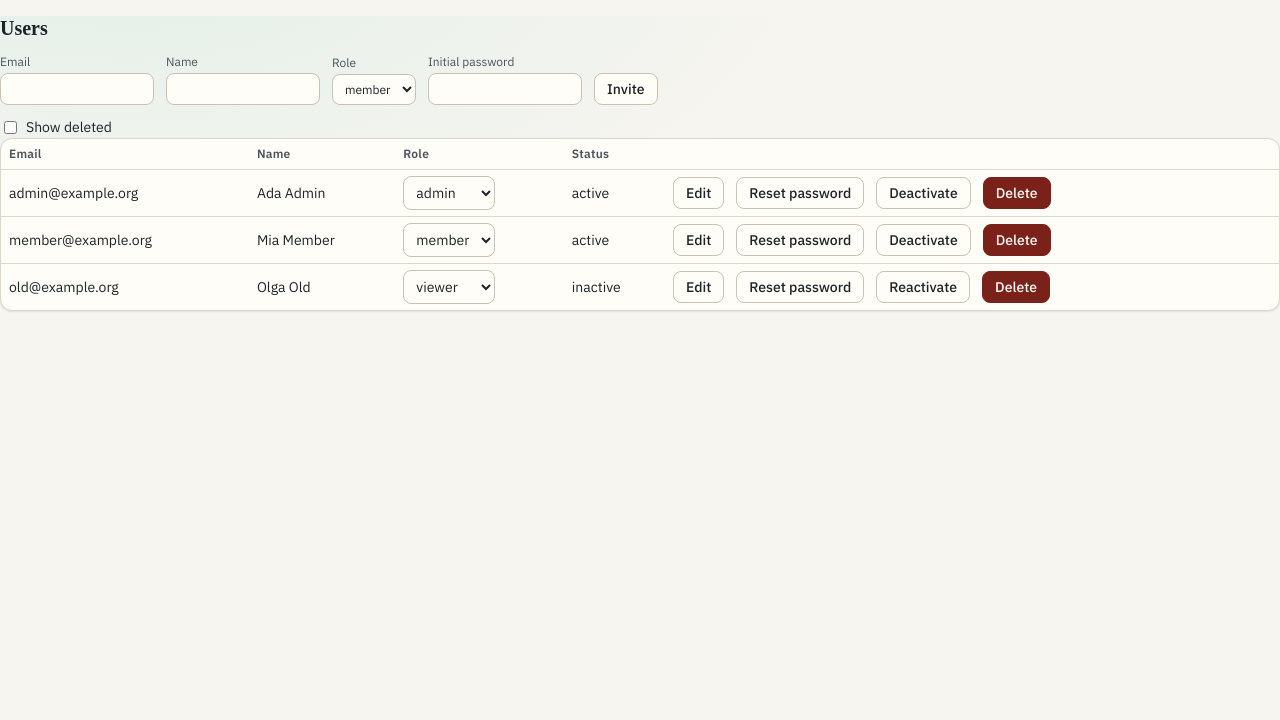
Test: UsersPage › edits name and email in a dialog and sends only what changed
This screenshot has width=1280, height=720.
Click the button with aria-label "Edit member@example.org": coordinates (699, 240) [673, 224, 724, 256]
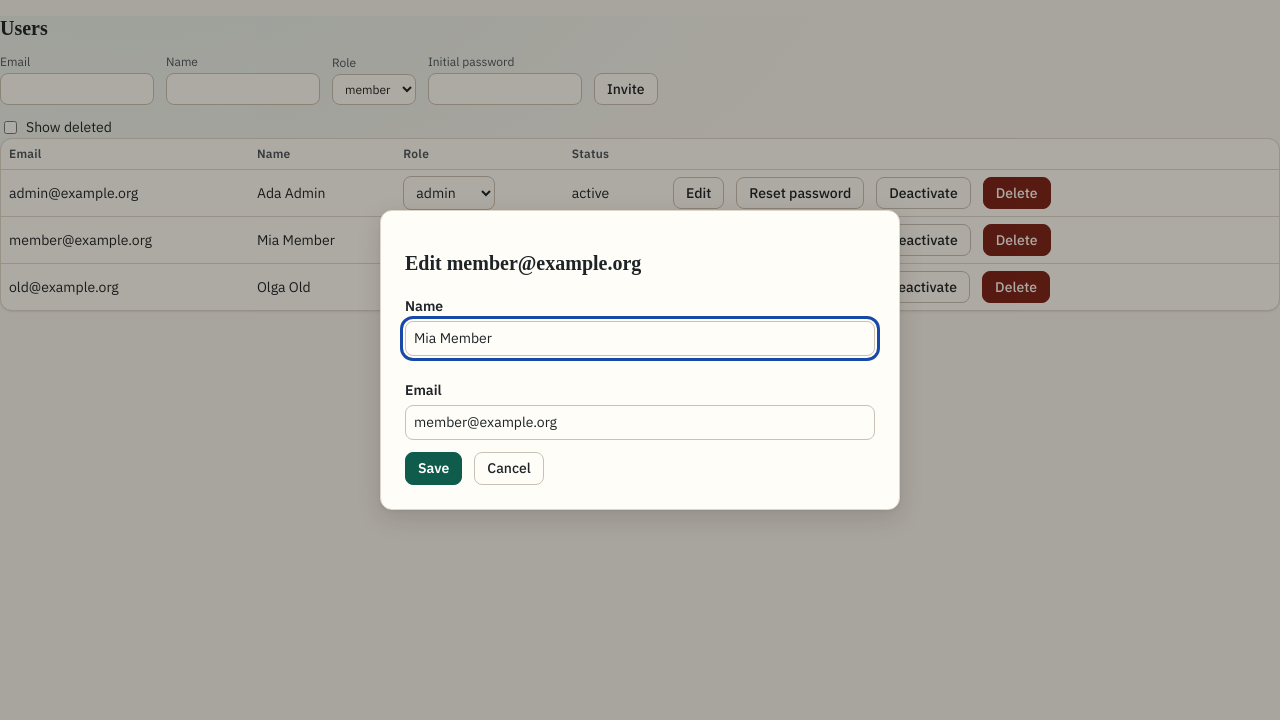
Replace the text in the field labelled "Email" with "nope": coordinates (640, 423) [405, 405, 875, 440]
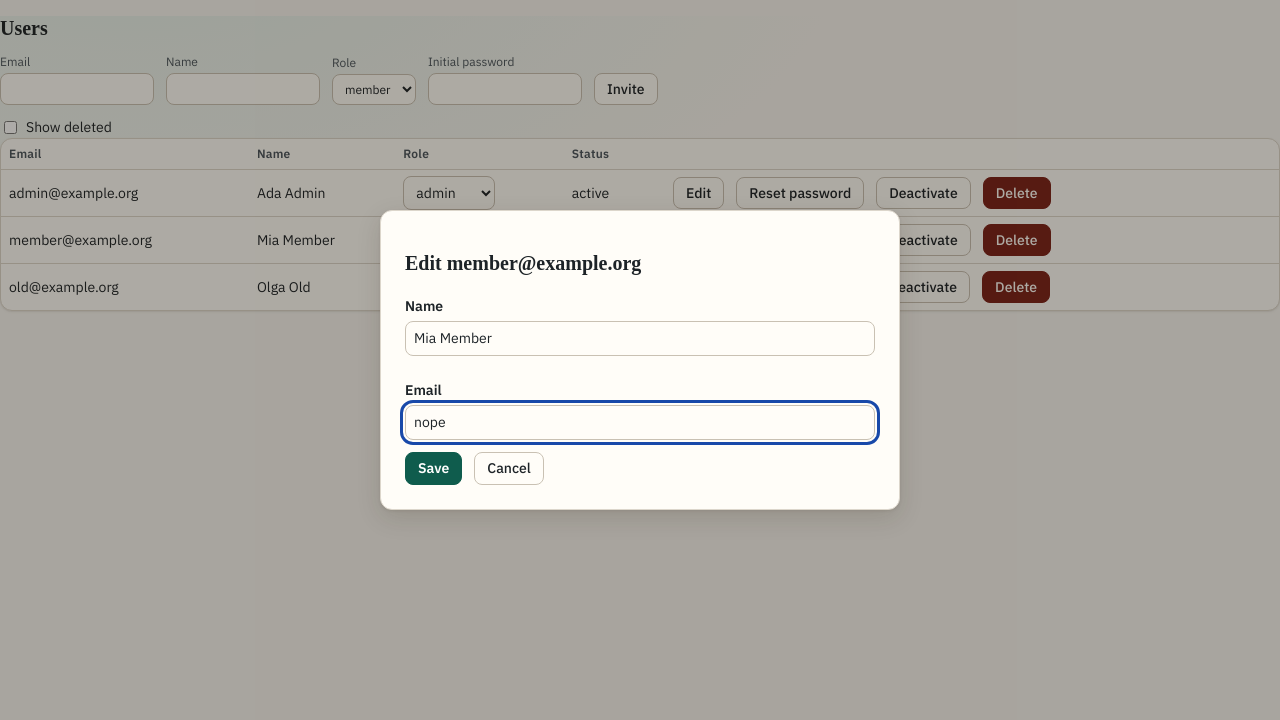
Click the button "Save": coordinates (434, 468) [405, 452, 462, 485]
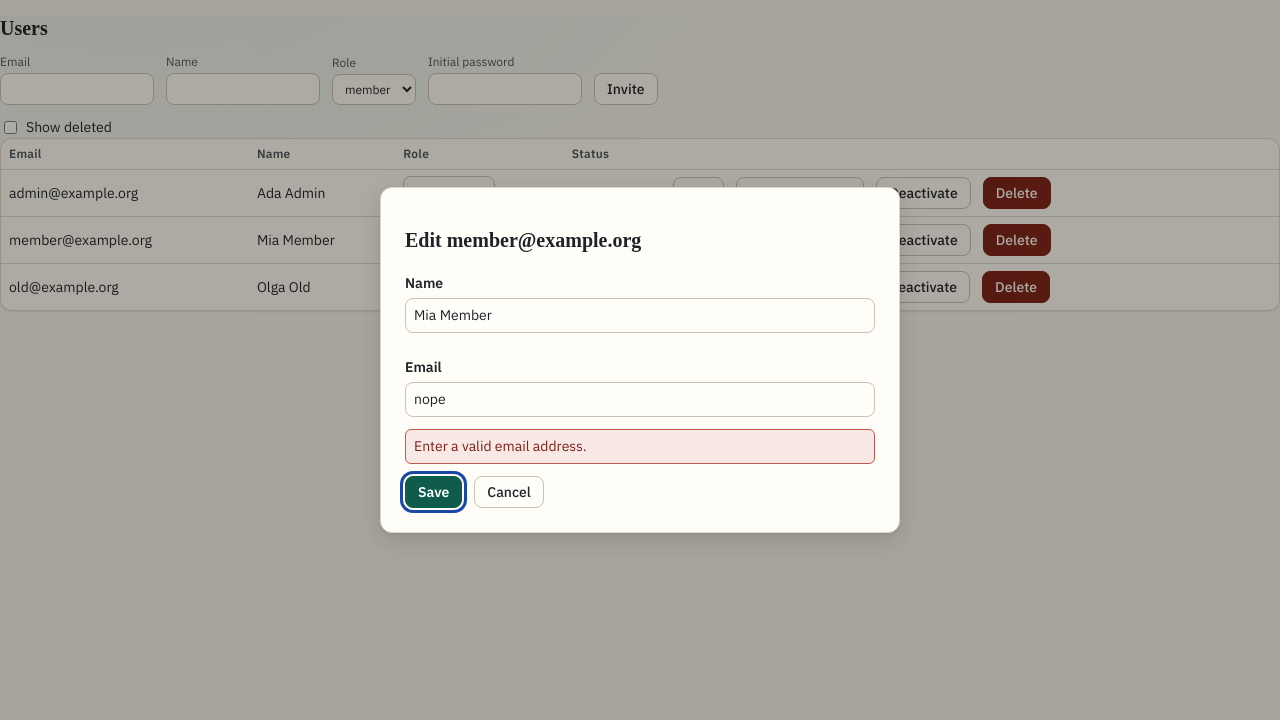
Now the message shows "valid email", box [414, 437, 587, 455]
Replace the text in the field labelled "Email" with "Mia@Example.org": coordinates (640, 399) [405, 382, 875, 417]
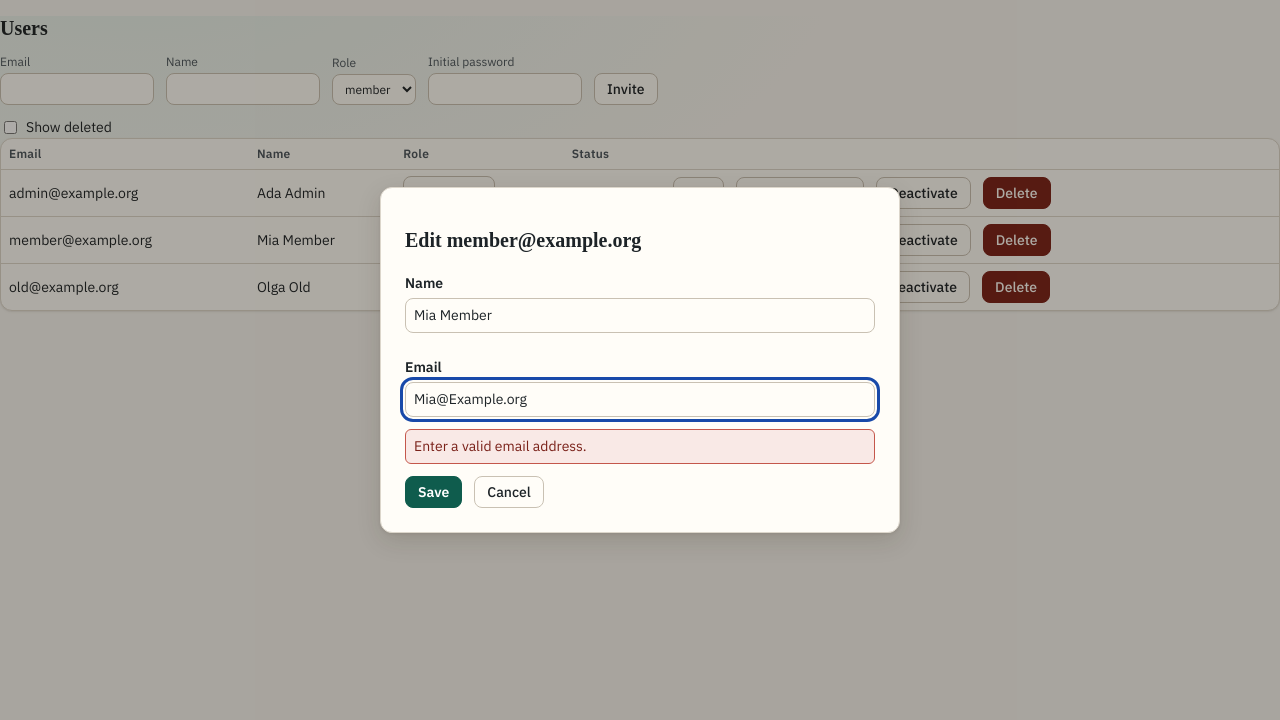
Click the button "Save": coordinates (434, 492) [405, 476, 462, 508]
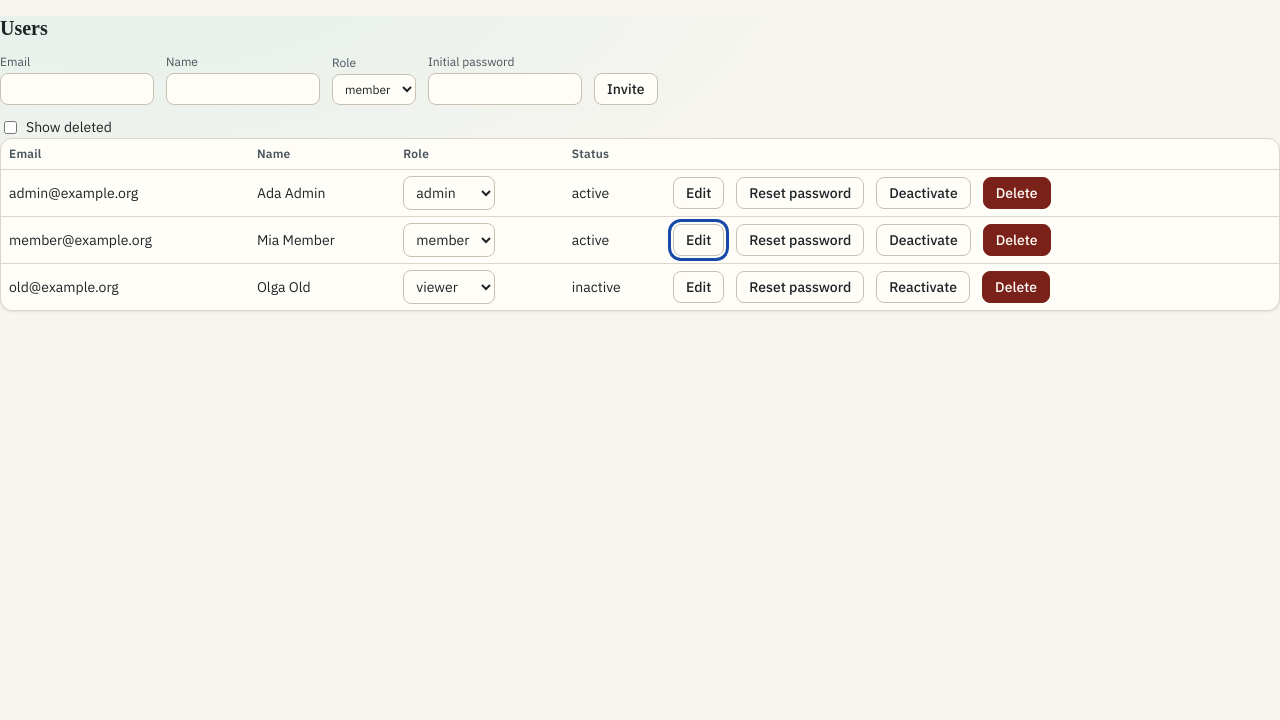
Now the dialog is gone
